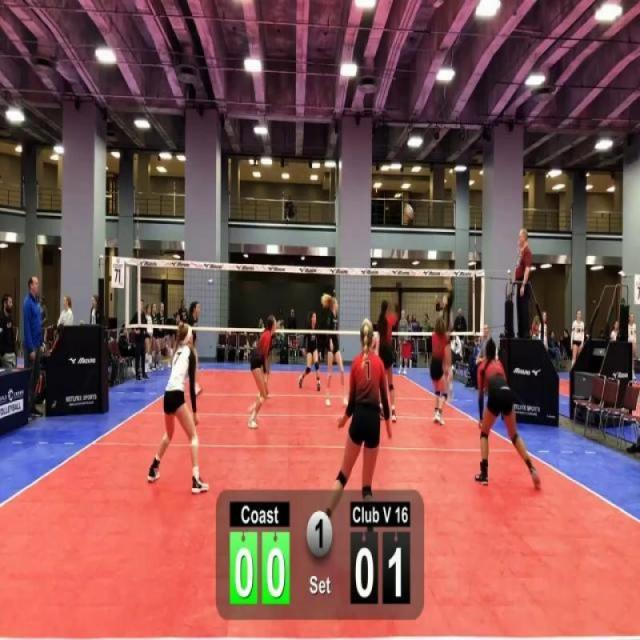volleyball: (404, 202, 414, 222)
